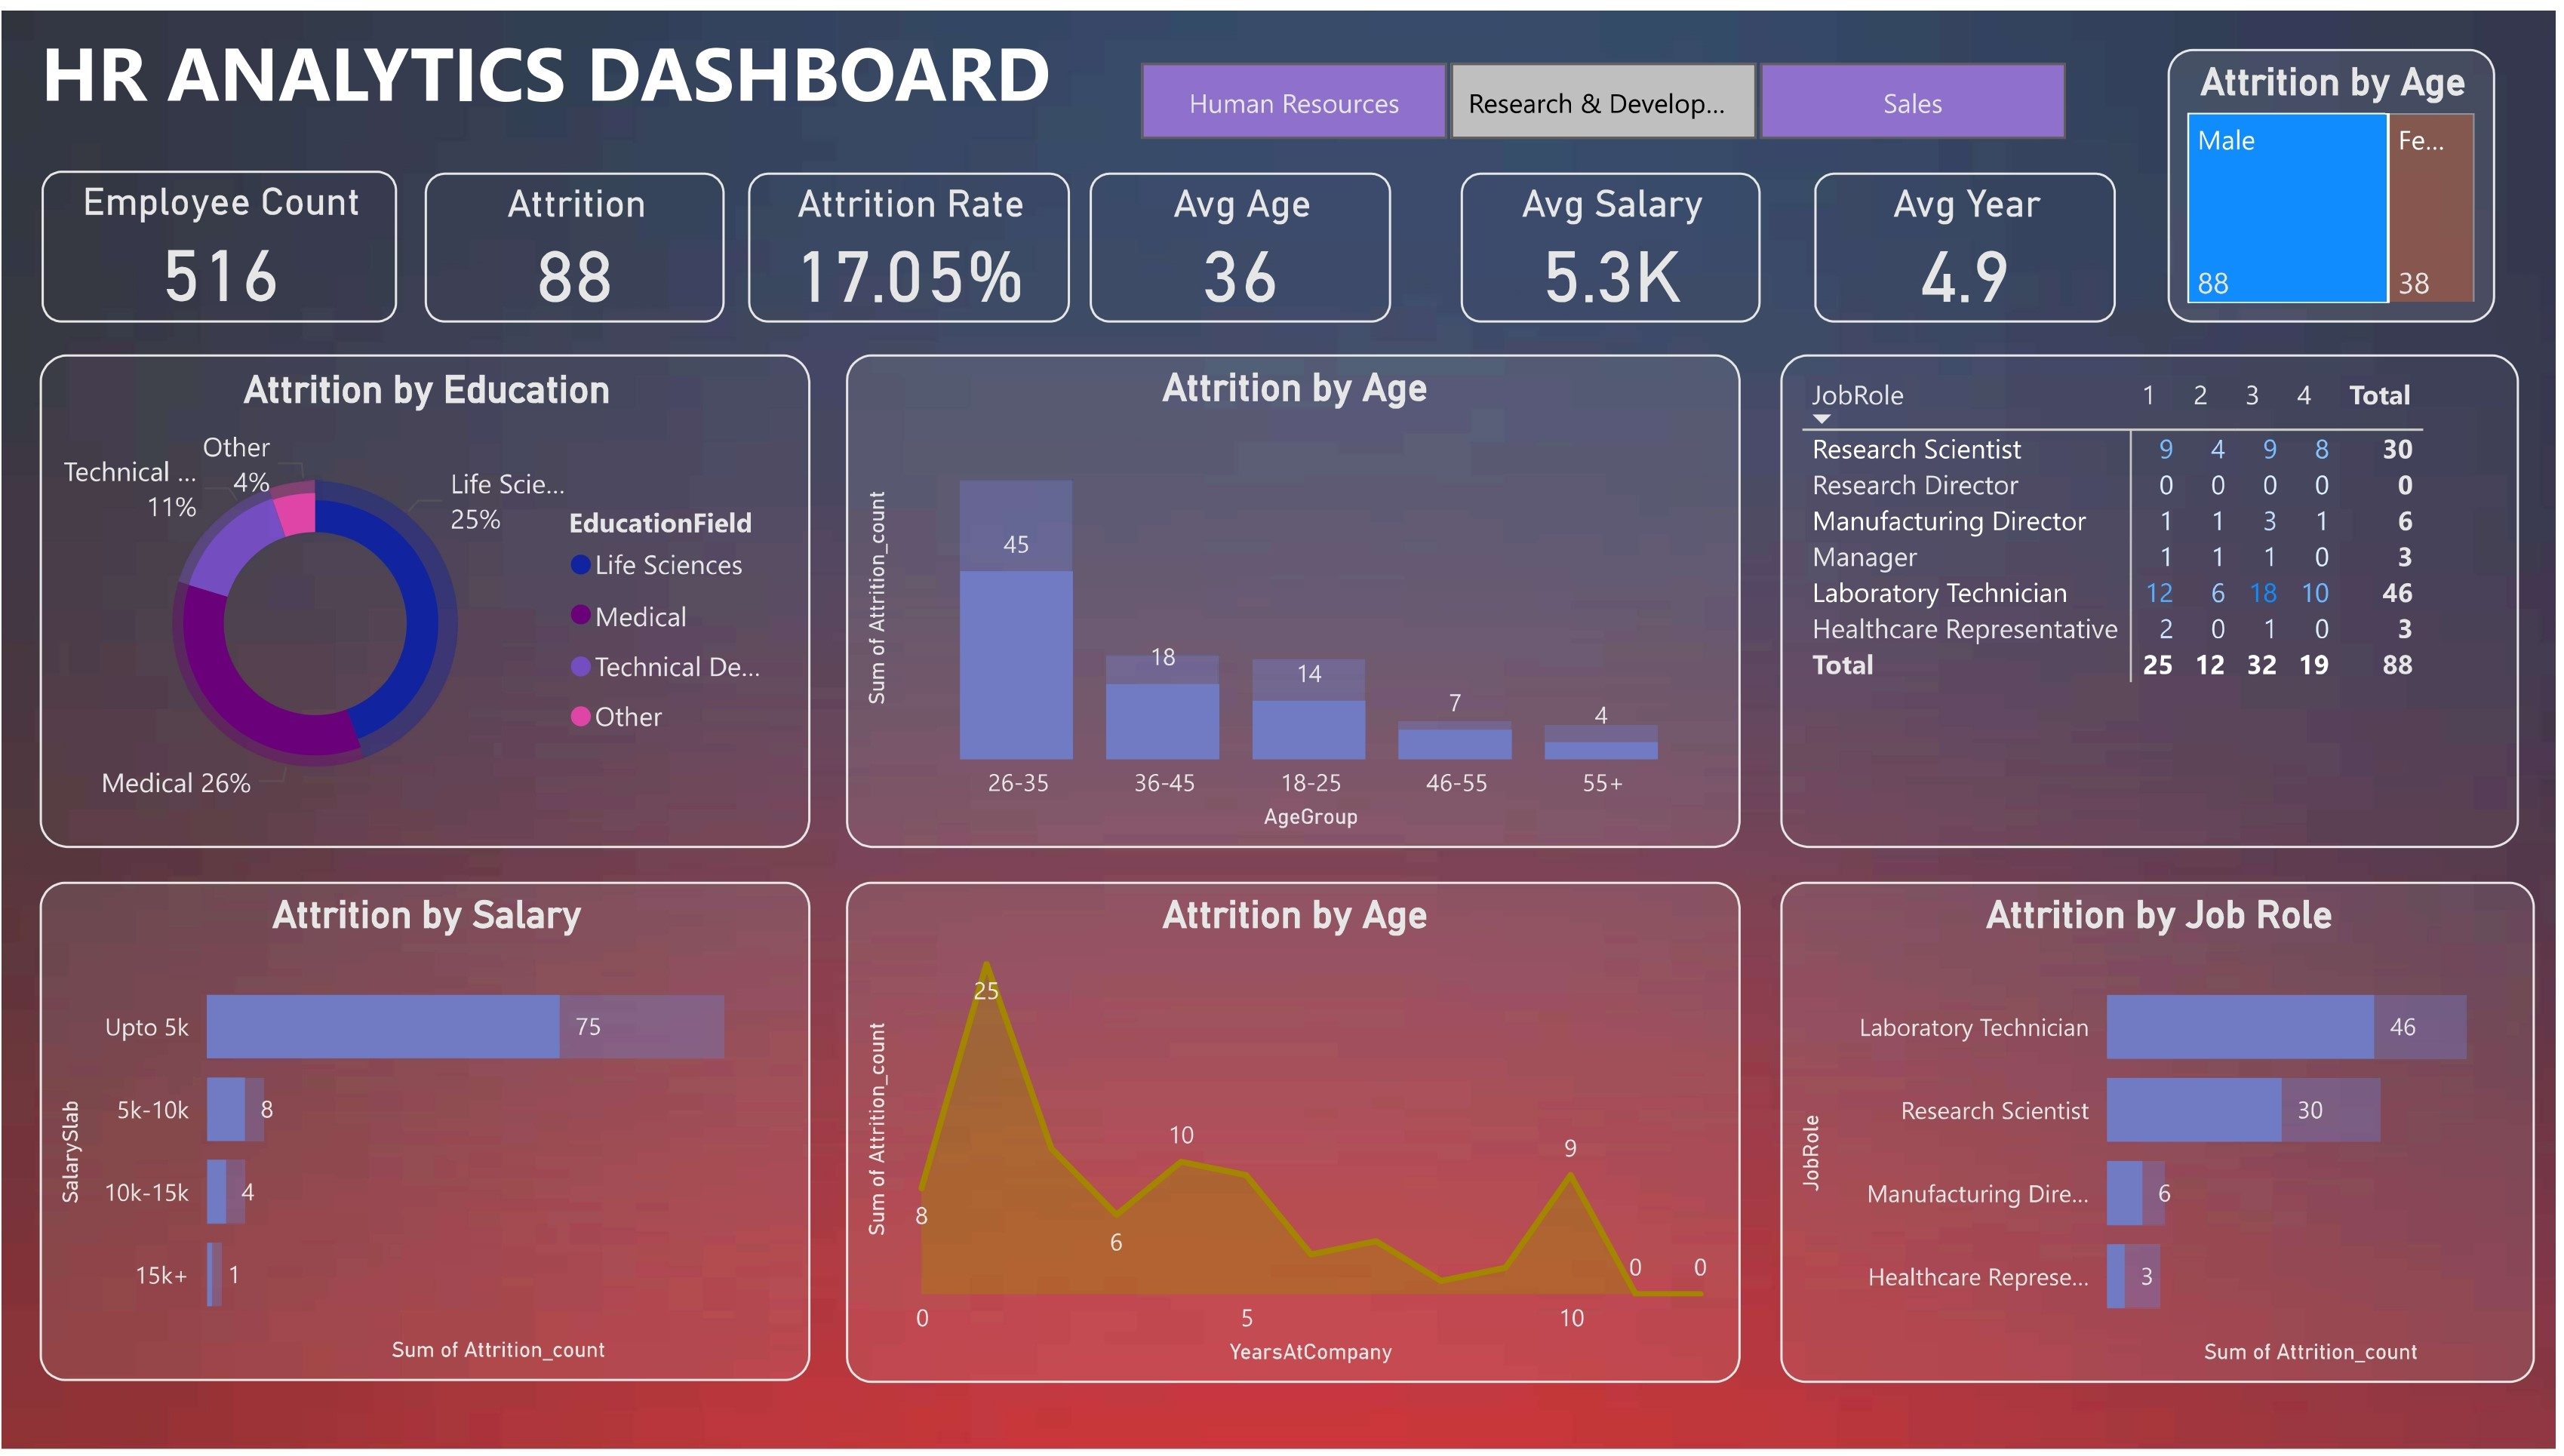

Layout of this report page (visuals, bound fields, positions):
{"tool":"powerbi","page":{"name":"Page 1","canvas":[1280,720],"ordinal":0},"visuals":[{"type":"card","title":"Avg Age","fields":{"Values":["Avg(HR_Analytics.Age)"]},"box":[544.8,81,150.9,75.5],"z":0},{"type":"card","title":"Attrition Rate","fields":{"Values":["HR_Analytics.AttritionRate"]},"box":[374,81.1,161,75.1],"z":1000},{"type":"card","title":"Attrition","fields":{"Values":["Sum(HR_Analytics.Attrition_count)"]},"box":[211.8,81.1,150.1,75.1],"z":2000},{"type":"card","title":"Avg Salary","fields":{"Values":["Avg(HR_Analytics.MonthlyIncome)"]},"box":[731.4,81,149.6,75.5],"z":3000},{"type":"card","title":"Avg Year","fields":{"Values":["Avg(HR_Analytics.YearsAtCompany)"]},"box":[908.4,81,150.9,75.5],"z":4000},{"type":"donutChart","title":"Attrition by Education","fields":{"Category":["HR_Analytics.EducationField"],"Y":["Sum(HR_Analytics.Attrition_count)"]},"box":[19.2,171.5,385.6,247],"z":5000},{"type":"columnChart","title":"Attrition by Age","fields":{"Category":["HR_Analytics.AgeGroup"],"Y":["Sum(HR_Analytics.Attrition_count)"]},"box":[422.6,171.5,448.7,247],"z":6000},{"type":"pivotTable","fields":{"Rows":["HR_Analytics.JobRole"],"Values":["Sum(HR_Analytics.Attrition_count)"],"Columns":["HR_Analytics.JobSatisfaction"]},"box":[890.6,171.5,370.5,247],"z":7000},{"type":"barChart","title":"Attrition by Salary","fields":{"Category":["HR_Analytics.SalarySlab"],"Y":["Sum(HR_Analytics.Attrition_count)"]},"box":[19.2,436.4,385.6,249.7],"z":8000},{"type":"barChart","title":"Attrition by Job Role","fields":{"Category":["HR_Analytics.JobRole"],"Y":["Sum(HR_Analytics.Attrition_count)"]},"box":[890.6,436.4,378.7,251.1],"z":9000},{"type":"areaChart","title":"Attrition by Age","fields":{"Category":["HR_Analytics.YearsAtCompany"],"Y":["Sum(HR_Analytics.Attrition_count)"]},"box":[422.6,436.4,448.7,251.1],"z":10000},{"type":"treemap","title":"Attrition by Age","fields":{"Group":["HR_Analytics.Gender"],"Values":["Sum(HR_Analytics.Attrition_count)"]},"box":[1085.4,19.2,163.3,137.2],"z":11000},{"type":"slicer","fields":{"Values":["HR_Analytics.Department"]},"box":[544.8,19.2,513.2,52.1],"z":12000},{"type":"textbox","box":[9.6,0,525.6,59],"z":13000},{"type":"card","title":"Employee Count","fields":{"Values":["CountNonNull(HR_Analytics.EmpID)"]},"box":[20,80,178,76],"z":14000}]}

Visuals, with their boxes in screenshot pixels (x1, y1, x2, y2), scaled from the page's 1280x720 canvas onto the 2564x1456 screenshot:
"Avg Age" card: (1091,164,1394,317)
"Attrition Rate" card: (749,164,1071,316)
"Attrition" card: (424,164,725,316)
"Avg Salary" card: (1465,164,1765,317)
"Avg Year" card: (1820,164,2122,317)
"Attrition by Education" donutChart: (38,347,811,846)
"Attrition by Age" columnChart: (847,347,1745,846)
pivotTable - HR_Analytics.JobRole x Sum(HR_Analytics.Attrition_count): (1784,347,2526,846)
"Attrition by Salary" barChart: (38,883,811,1387)
"Attrition by Job Role" barChart: (1784,883,2543,1390)
"Attrition by Age" areaChart: (847,883,1745,1390)
"Attrition by Age" treemap: (2174,38,2501,316)
slicer - HR_Analytics.Department: (1091,38,2120,144)
textbox: (19,0,1072,119)
"Employee Count" card: (40,161,397,315)
